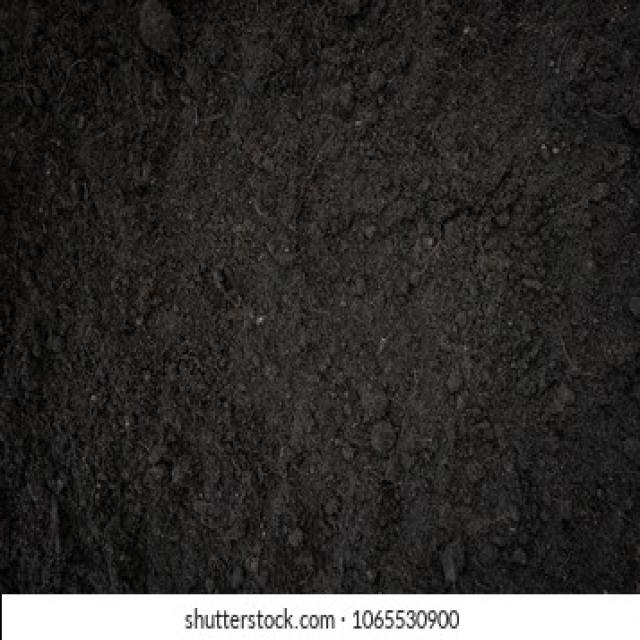Black Soil: (65, 69, 578, 512)
